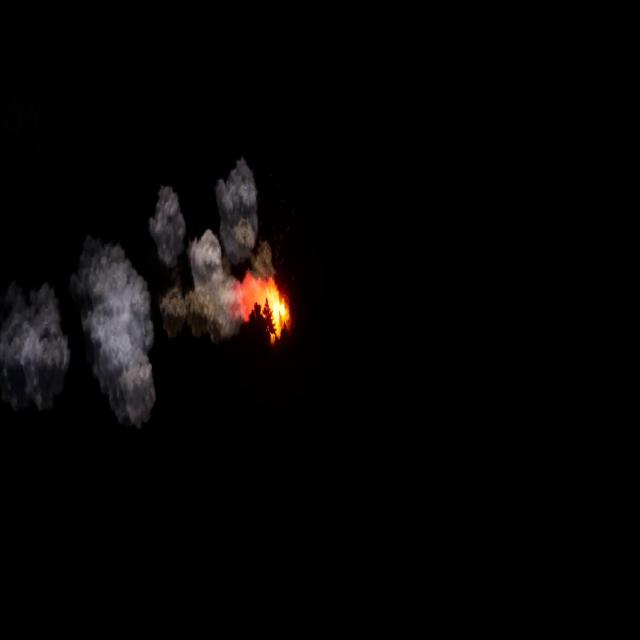fire: (236, 265, 295, 337)
smoke: (0, 150, 272, 428)
